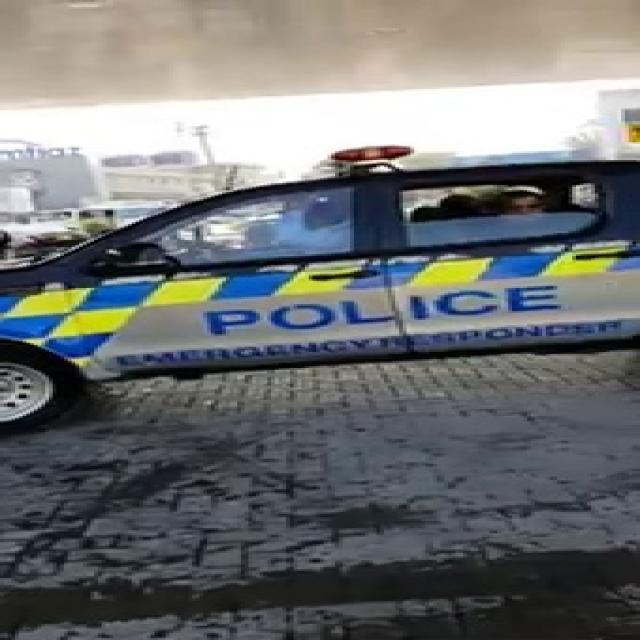police: (5, 109, 640, 382)
